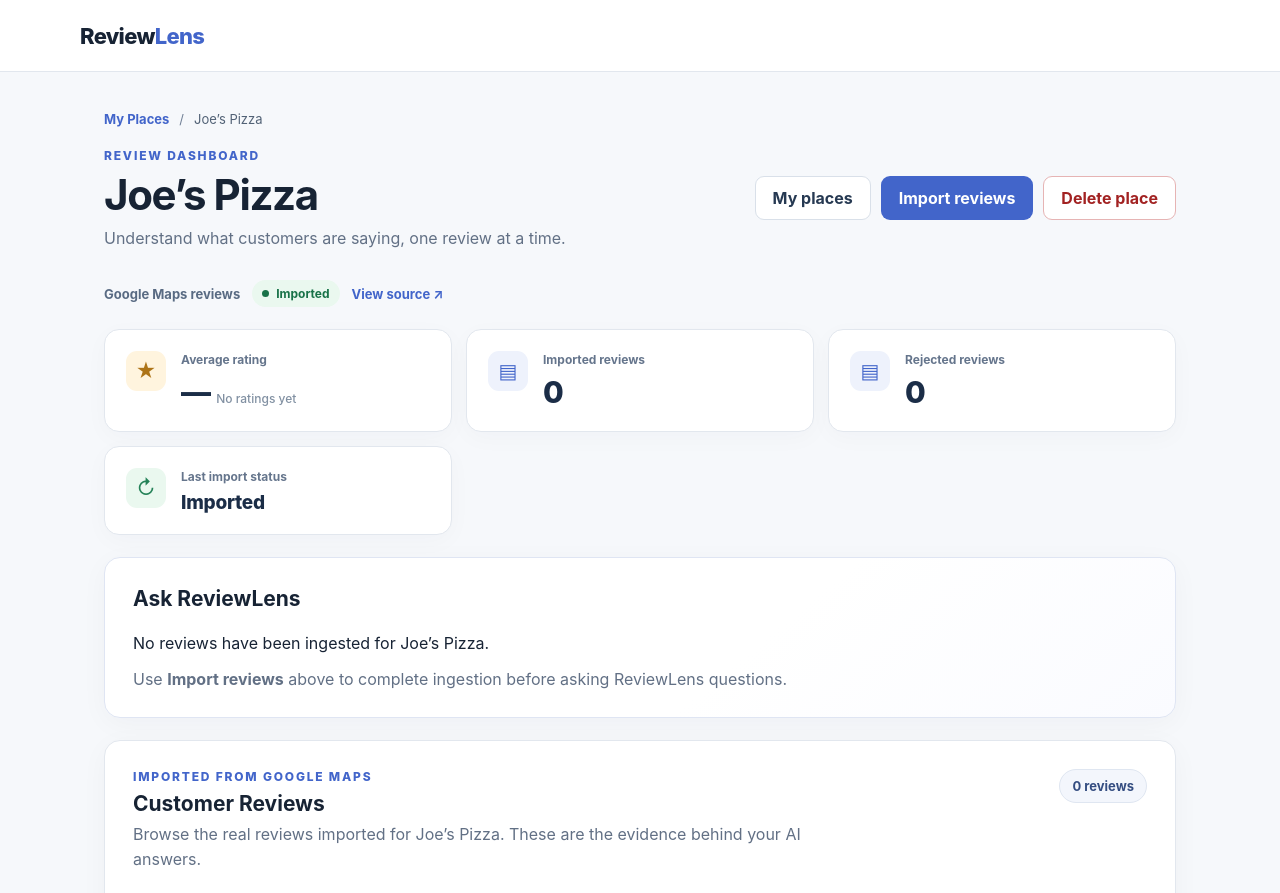
App › explains when another import finds no additional reviews
The width and height of the screenshot is (1280, 893).
Click the button "Import reviews" at coordinates (957, 198), box 881,176 -> 1033,220
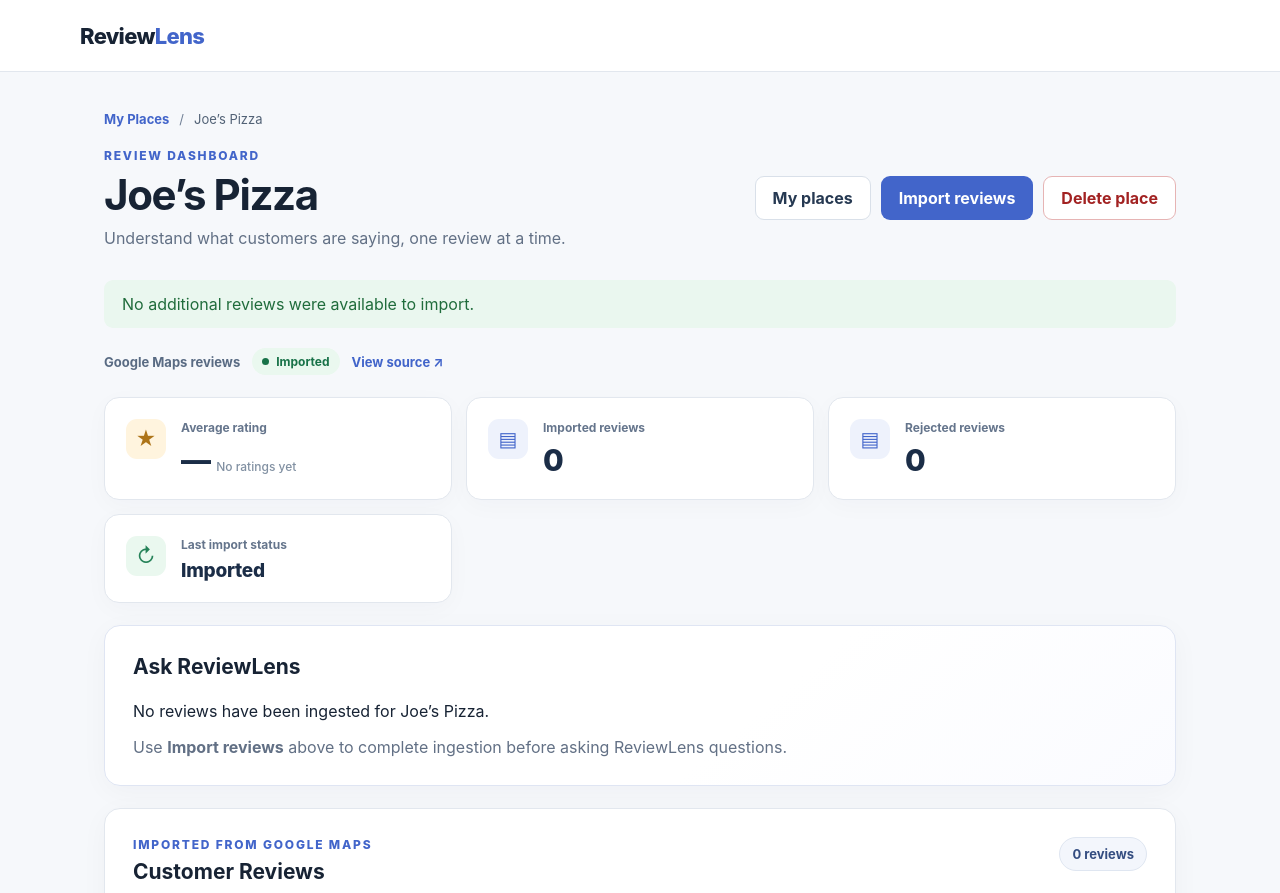
Check: the text "No additional reviews were available to import." is shown, box 104,280 -> 1176,328
